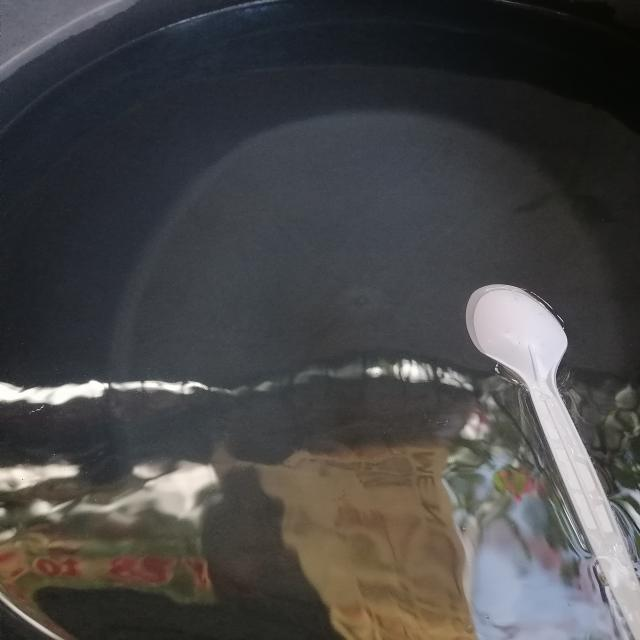Plastic Spoon: (466, 284, 640, 640)
